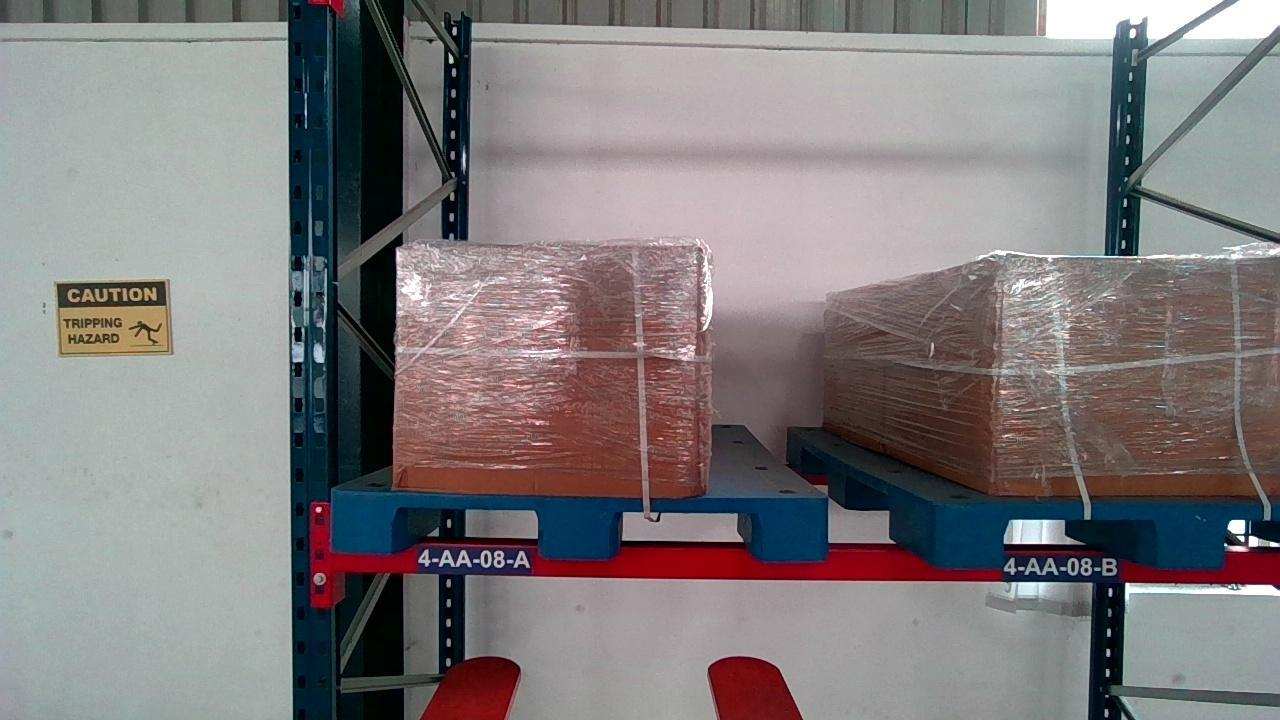h_rack: (327, 535, 1279, 582)
small_pallet: (327, 492, 824, 561), (937, 502, 1279, 567)
